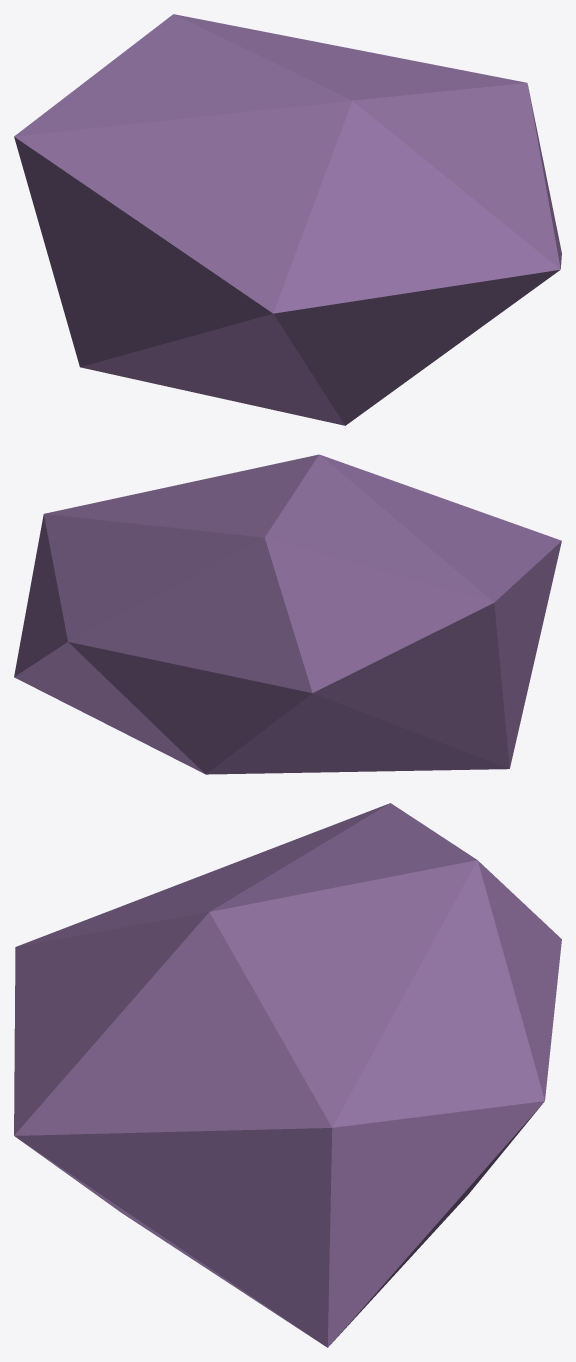
The model's file is rock.glb.
The picture shows the model from 3 angles, top to bottom: view 1: azimuth 30°, elevation 25°; view 2: azimuth 150°, elevation 25°; view 3: azimuth 270°, elevation 25°; orthographic projection. The views are drawn at different scales.
Parts seen in each view (by area): view 1: Rock; view 2: Rock; view 3: Rock.
Part boxes in pixels (x1,y1,x2,y2): Rock: [14, 14, 561, 425]; Rock: [14, 454, 561, 774]; Rock: [14, 803, 561, 1347].
Size of the model in its own units: 0.8034 by 0.4447 by 0.642.
